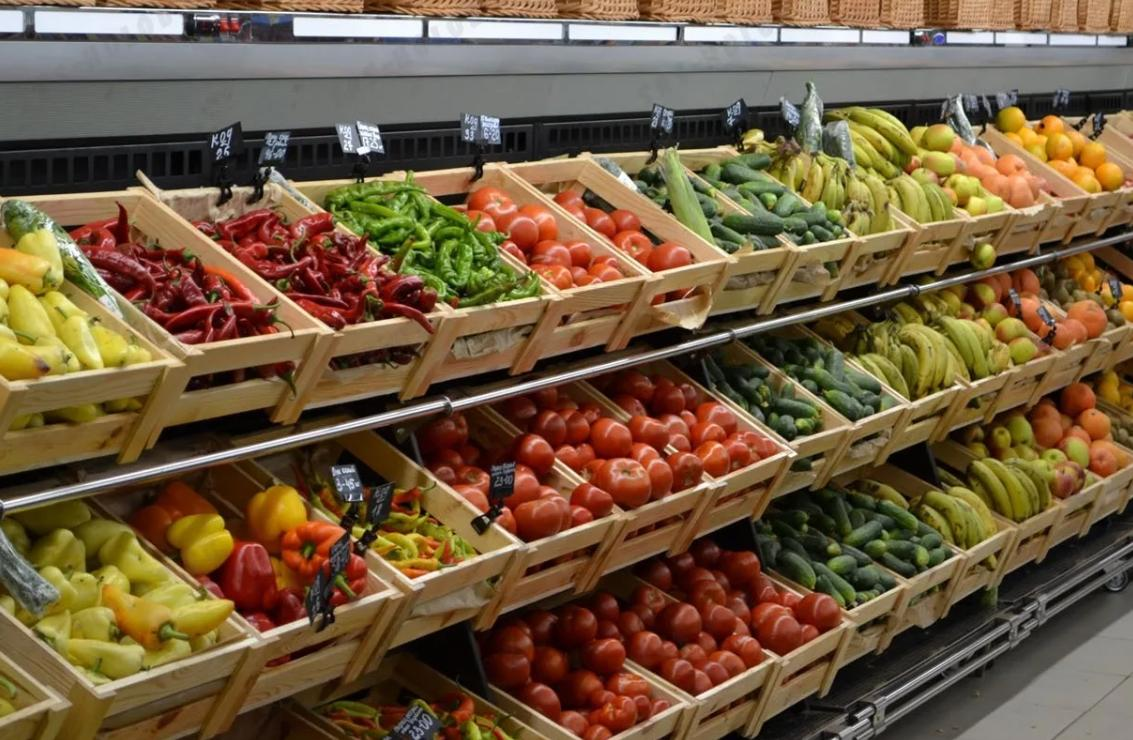banana: (786, 108, 944, 254), (860, 302, 1017, 423), (895, 449, 1052, 568)
cucumber: (703, 128, 846, 271), (764, 497, 900, 624), (696, 341, 830, 449), (823, 483, 955, 591), (775, 318, 889, 426)
orange: (998, 104, 1132, 194), (1069, 251, 1133, 320)
sweet pepper: (133, 470, 370, 638)
tomato: (398, 400, 610, 548), (442, 180, 624, 328), (680, 530, 852, 678), (478, 593, 650, 740), (594, 566, 766, 713), (520, 388, 702, 517), (536, 167, 699, 283), (623, 361, 780, 480)
